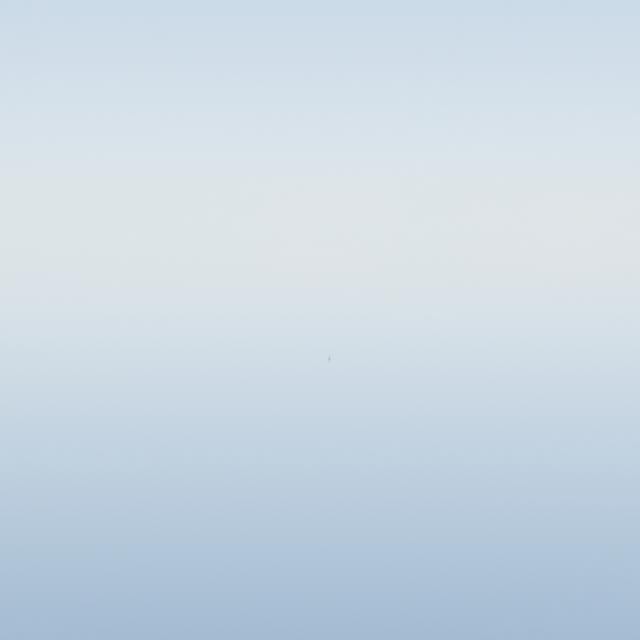Airaplan: (328, 355, 331, 363)
